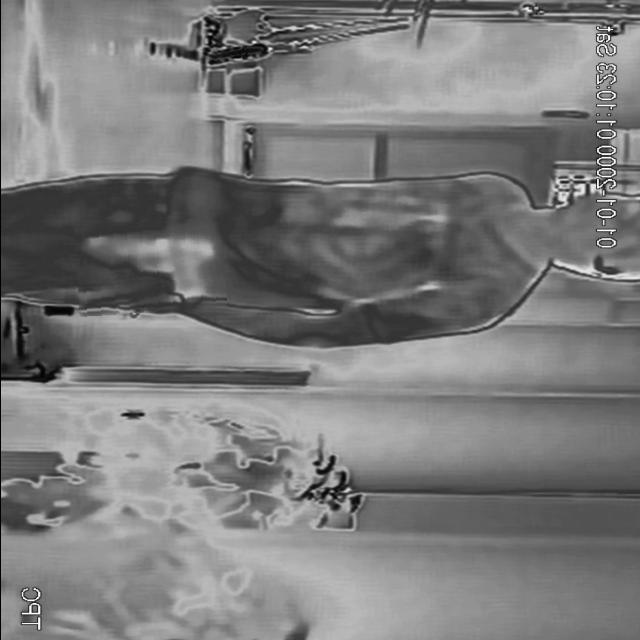Weapon: (74, 219, 224, 314)
